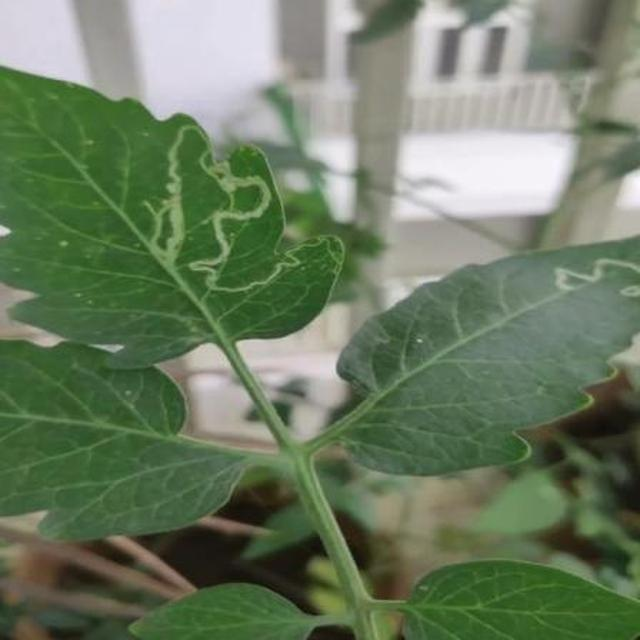Leaf Miner: (249, 314, 640, 507)
